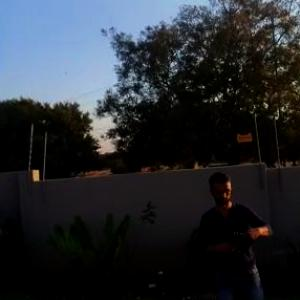follow: (196, 163, 276, 299)
